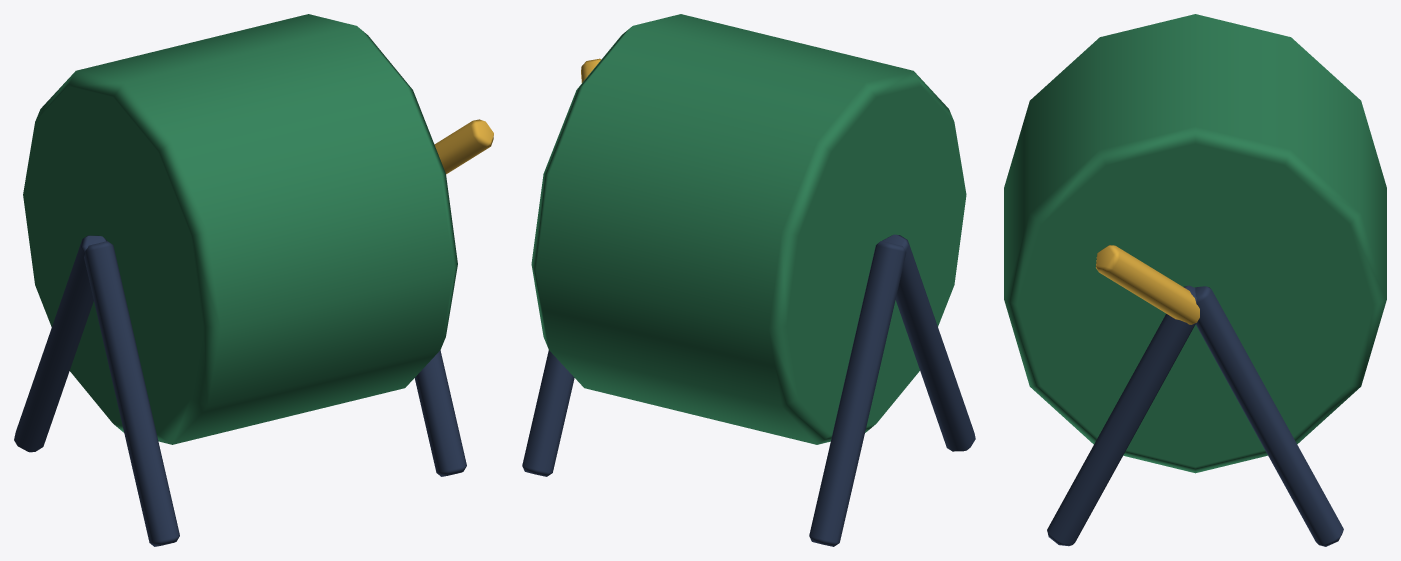
The model's file is hose_reel.glb.
3 views of the same model, side by side, from view 1: azimuth 30°, elevation 25°; view 2: azimuth 150°, elevation 25°; view 3: azimuth 270°, elevation 25° (orthographic).
Parts seen in each view (by area): view 1: hose_reel; view 2: hose_reel; view 3: hose_reel.
Part boxes in pixels (box(x1,y1,x2,y2)): hose_reel: box(14, 14, 493, 546); hose_reel: box(522, 14, 975, 546); hose_reel: box(1004, 14, 1386, 546).
Size of the model in its own units: 0.9194 by 0.9811 by 0.84.
